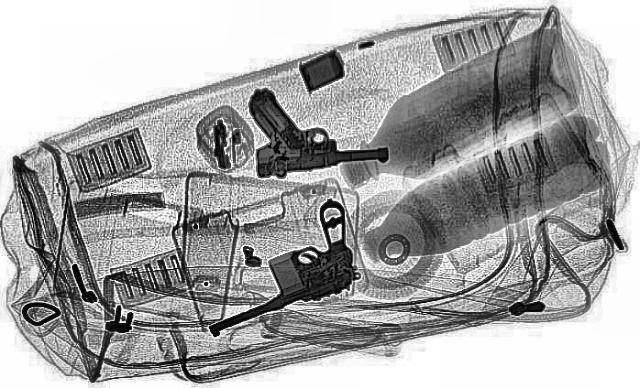Gun: (178, 199, 372, 333), (231, 79, 391, 179)
